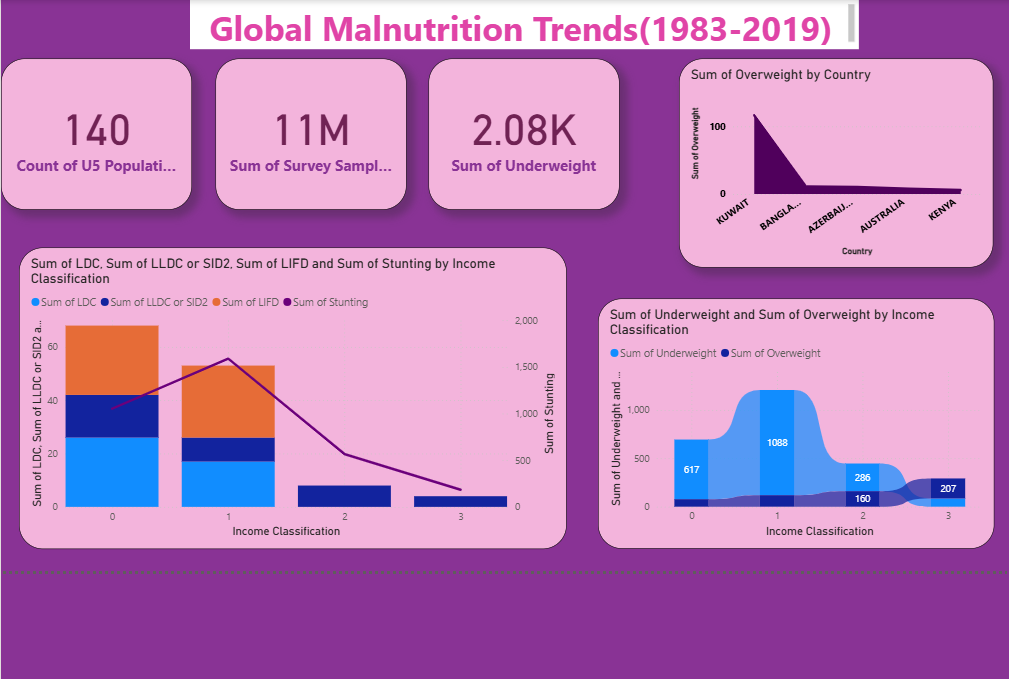

Layout of this report page (visuals, bound fields, positions):
{"tool":"powerbi","page":{"name":"Page 1","canvas":[1280,720],"ordinal":0},"visuals":[{"type":"textbox","box":[237.4,0,842.5,61.7],"z":0},{"type":"card","fields":{"Values":["CountNonNull(country-wise-average.U5 Population ('000s))"]},"box":[0,74.6,240.9,190.8],"z":1000},{"type":"card","fields":{"Values":["Sum(malnutrition-estimates.Survey Sample (N))"]},"box":[270.2,74.6,240.9,190.8],"z":2000},{"type":"card","fields":{"Values":["Sum(malnutrition-estimates.Underweight)"]},"box":[538,74.6,240.9,190.8],"z":3000},{"type":"stackedAreaChart","fields":{"Category":["malnutrition-estimates.Country"],"Y":["Sum(malnutrition-estimates.Overweight)"]},"box":[854.8,74.2,396.2,263],"z":4000},{"type":"lineStackedColumnComboChart","fields":{"Y":["Sum(malnutrition-estimates.LDC)","Sum(malnutrition-estimates.LLDC or SID2)","Sum(malnutrition-estimates.LIFD)"],"Category":["malnutrition-estimates.Income Classification"],"Y2":["Sum(malnutrition-estimates.Stunting)"]},"box":[23.3,311.5,690.2,380.1],"z":5000},{"type":"ribbonChart","fields":{"Category":["malnutrition-estimates.Income Classification"],"Y":["Sum(malnutrition-estimates.Underweight)","Sum(malnutrition-estimates.Overweight)"]},"box":[752,376,499.5,315.6],"z":6000}]}

Visuals, with their boxes in screenshot pixels (x1, y1, x2, y2):
textbox: BBox(176, 0, 855, 42)
card - CountNonNull(country-wise-average.U5 Population ('000s)): BBox(0, 52, 178, 206)
card - Sum(malnutrition-estimates.Survey Sample (N)): BBox(202, 52, 396, 206)
card - Sum(malnutrition-estimates.Underweight): BBox(418, 52, 612, 206)
stackedAreaChart - malnutrition-estimates.Country x Sum(malnutrition-estimates.Overweight): BBox(673, 52, 992, 264)
lineStackedColumnComboChart - Sum(malnutrition-estimates.LDC) x Sum(malnutrition-estimates.LLDC or SID2): BBox(3, 243, 559, 550)
ribbonChart - malnutrition-estimates.Income Classification x Sum(malnutrition-estimates.Underweight): BBox(590, 295, 993, 550)
